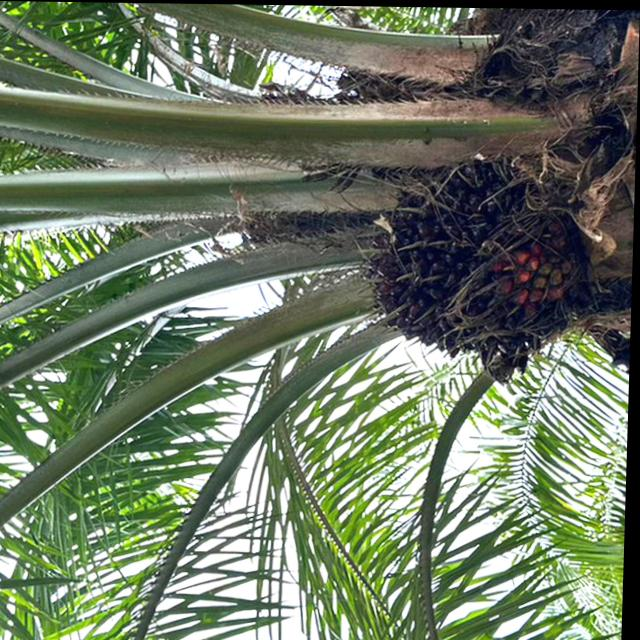ripe: (336, 127, 600, 384)
